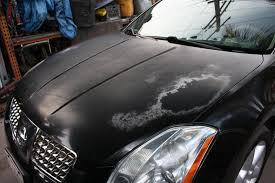bonnet-dent: (46, 41, 222, 121)
